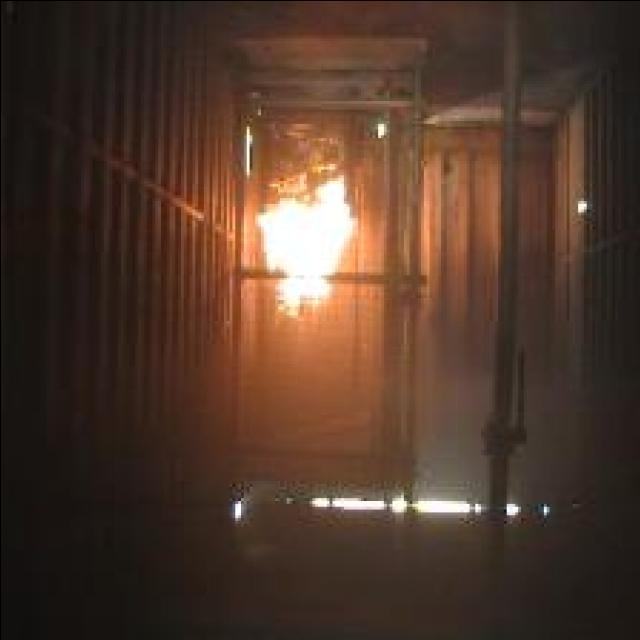Fire: (254, 173, 354, 321)
